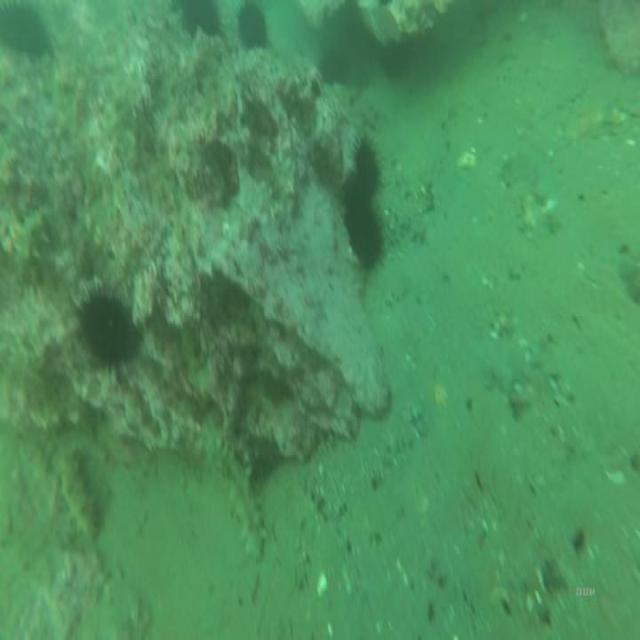echinus: (70, 272, 150, 392), (339, 190, 388, 274), (344, 134, 389, 201), (0, 0, 53, 55), (233, 5, 276, 55), (177, 2, 230, 42), (315, 44, 351, 89)
holothurian: (201, 420, 269, 564), (53, 441, 103, 547)
